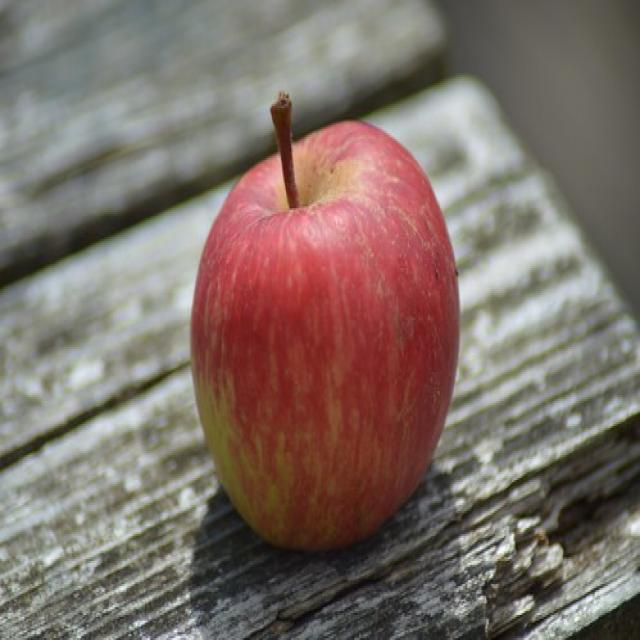Apple: (188, 90, 460, 548)
